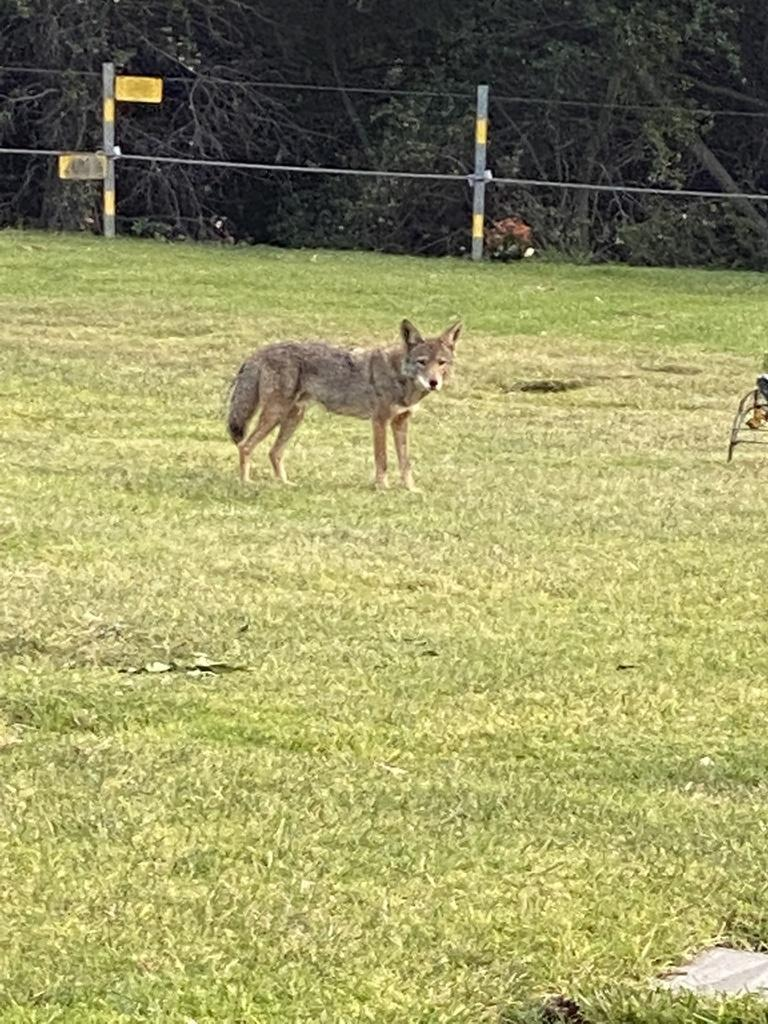Coyote: (224, 315, 472, 501)
